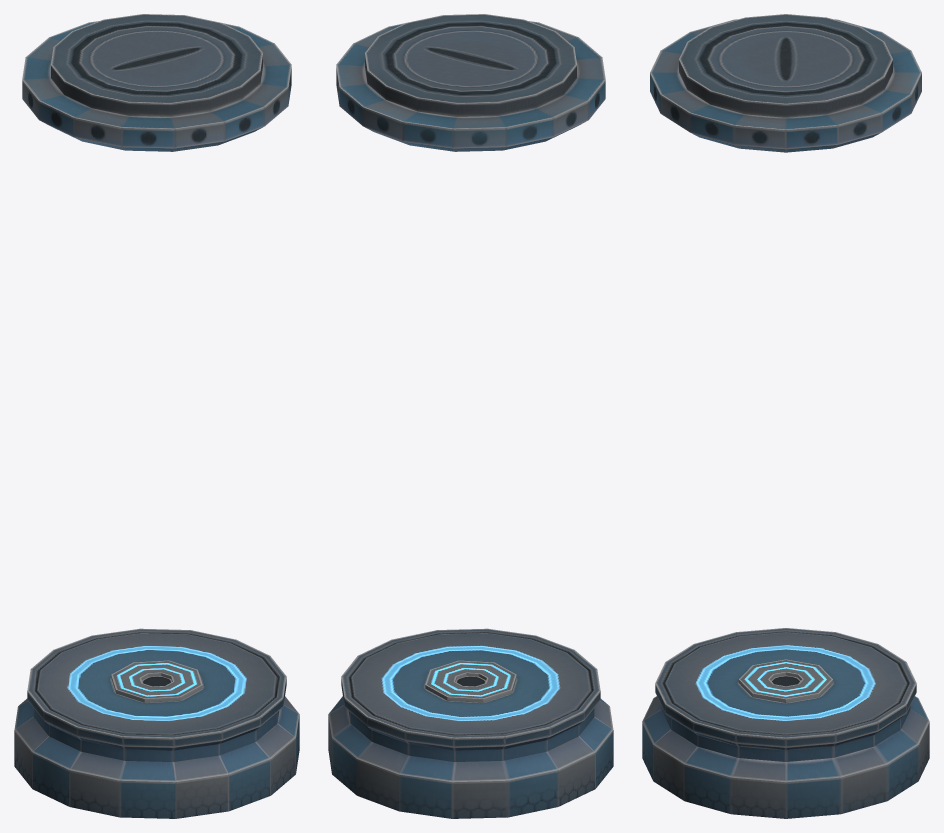
Rendered from 1_Estructura_Capsula.fbx.
The picture shows the model from 3 angles, left to right: view 1: azimuth 30°, elevation 25°; view 2: azimuth 150°, elevation 25°; view 3: azimuth 270°, elevation 25°; orthographic projection.
Parts seen in each view (by area): view 1: Estructura_Capsula; view 2: Estructura_Capsula; view 3: Estructura_Capsula.
Boxes of the visible parts, <box> form: Estructura_Capsula: <box>14,14,299,818</box>; Estructura_Capsula: <box>328,14,613,818</box>; Estructura_Capsula: <box>642,14,929,818</box>.
Bounding box in the file's own units: 82.63 × 222 × 82.63.
